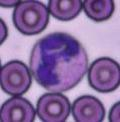N: (29, 30, 88, 92)
